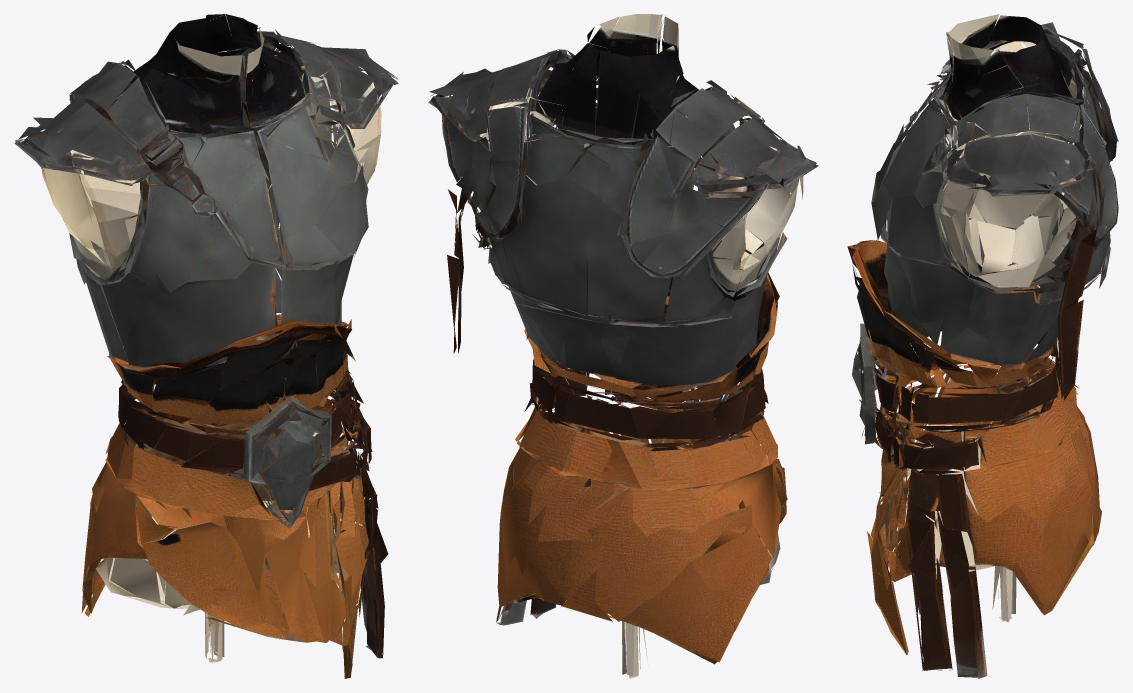
File: armor_mk2_meshy.glb
3 views of the same model, side by side, from view 1: azimuth 30°, elevation 25°; view 2: azimuth 150°, elevation 25°; view 3: azimuth 270°, elevation 25° (orthographic). The views are drawn at different scales.
Parts seen in each view (by area): view 1: Mesh_0; view 2: Mesh_0; view 3: Mesh_0.
Boxes of the visible parts, left/top/right/bottom form: Mesh_0: left=14, top=14, right=398, bottom=678; Mesh_0: left=428, top=14, right=818, bottom=678; Mesh_0: left=847, top=14, right=1118, bottom=678.
Size of the model in its own units: 1.03 by 1.73 by 0.7256.
1 material, 1 textured.
